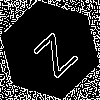Z: (25, 25, 79, 79)
